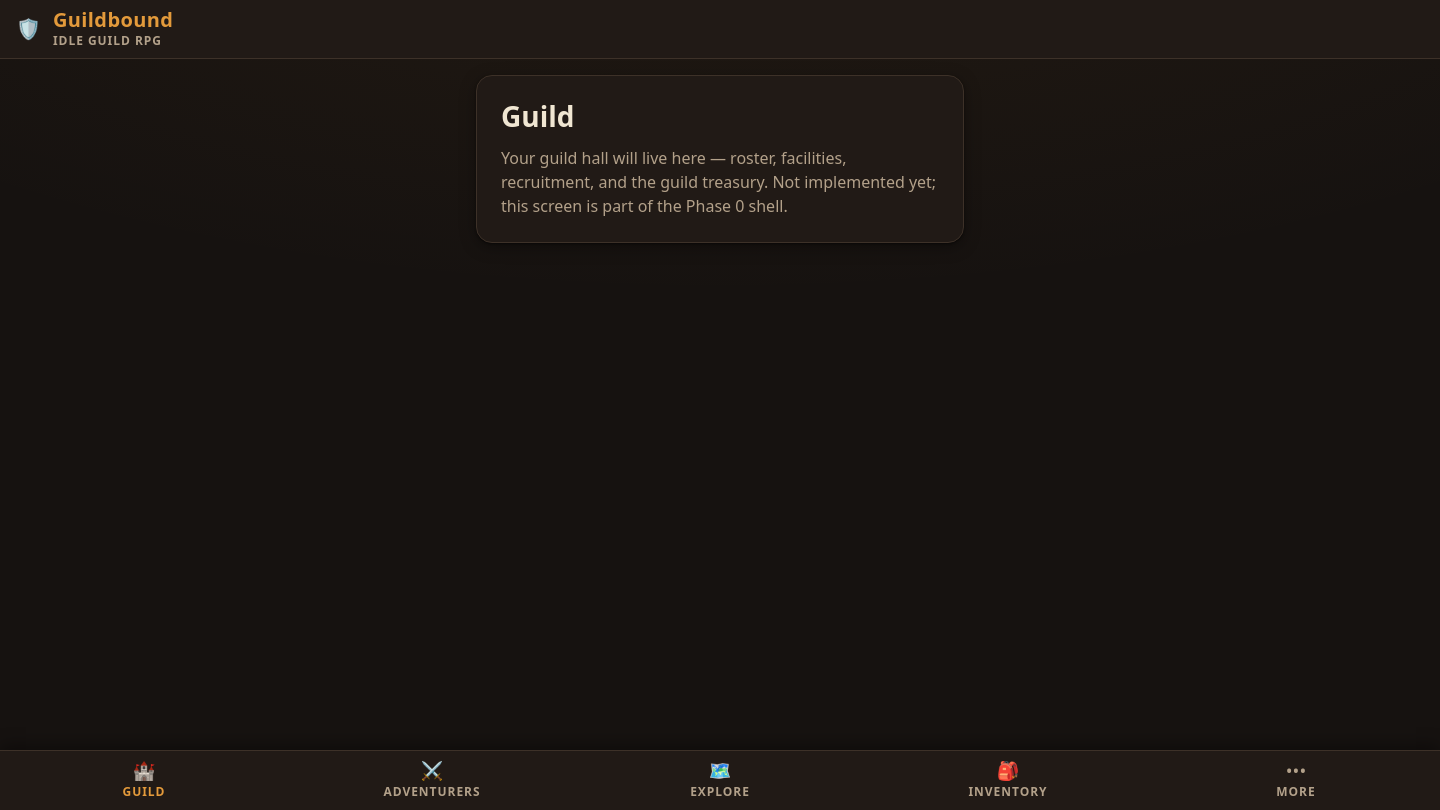
Test: App shell › navigates to a screen from the bottom navigation
Step 1. Click the link "⚔️ Adventurers" → (432, 778), box [384,758,481,800]
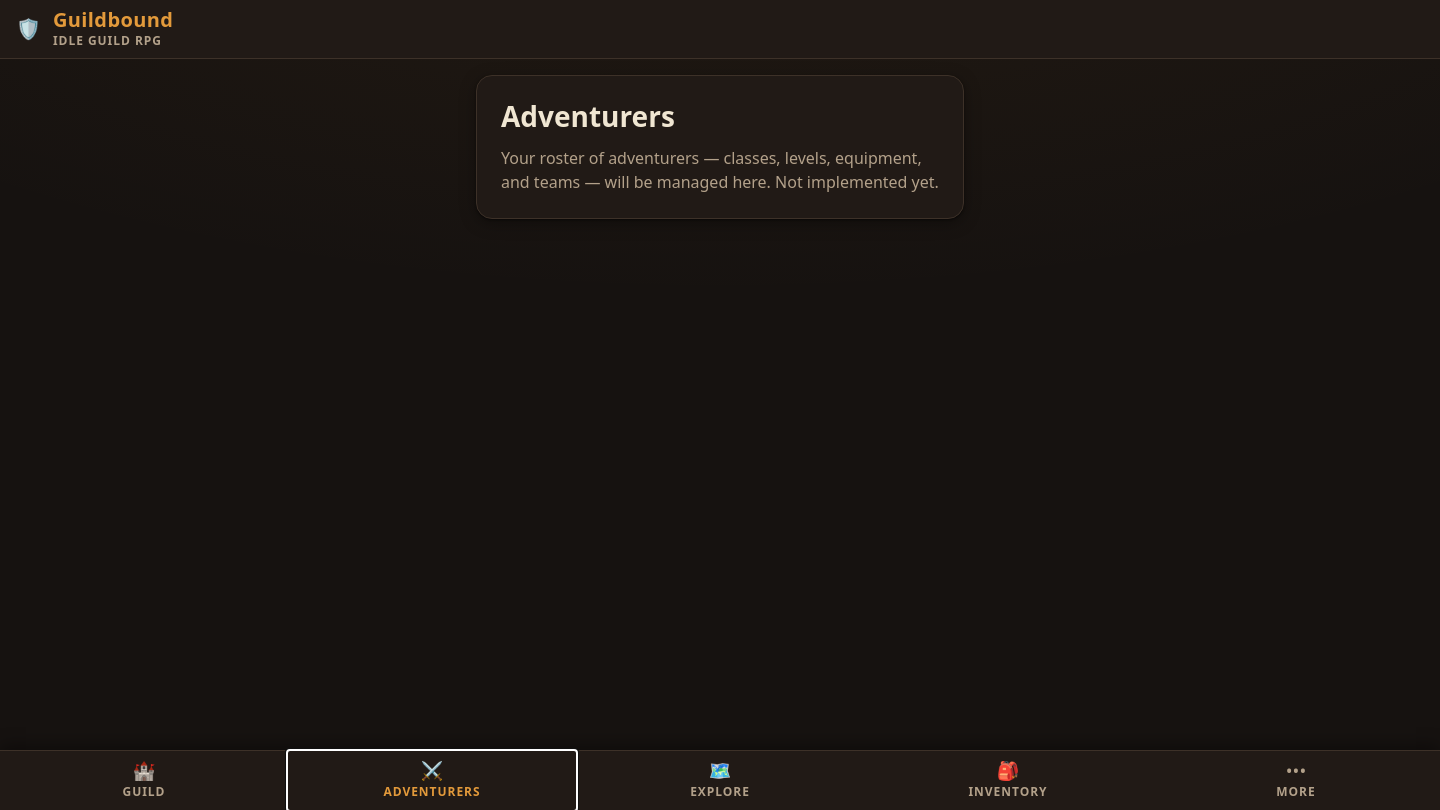
expect the heading "Adventurers" is shown: met, box [501,97,675,135]
